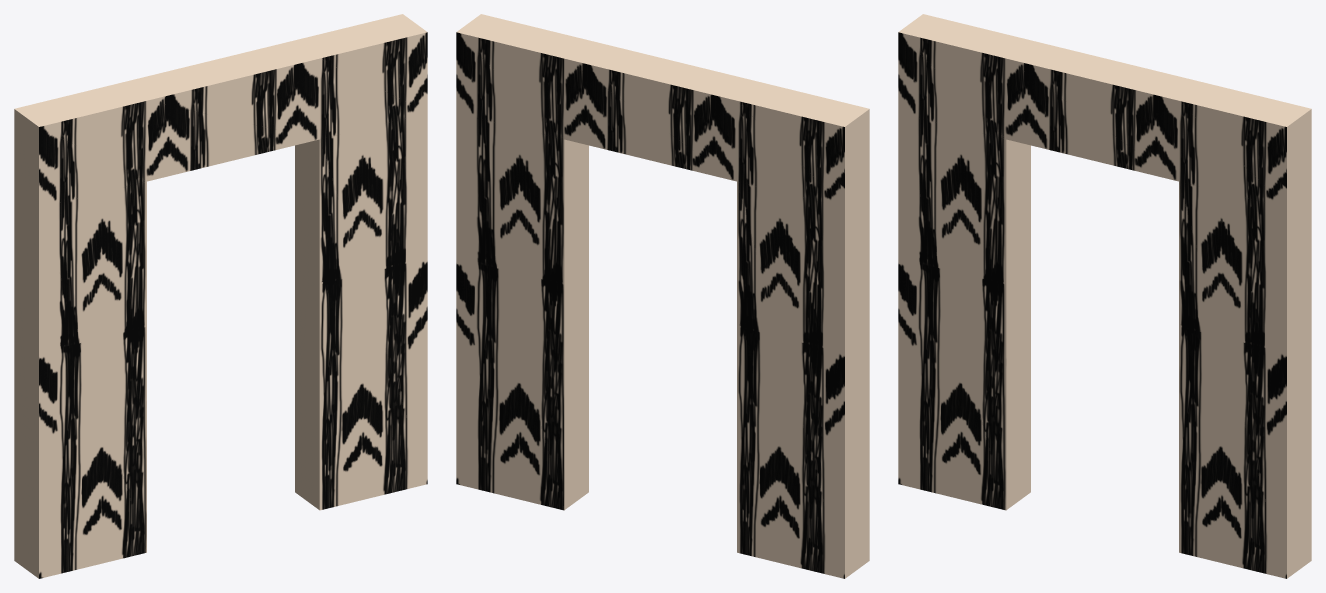
Rendered from puertarregladauwu.fbx.
3 views of the same model, side by side, from view 1: azimuth 30°, elevation 25°; view 2: azimuth 150°, elevation 25°; view 3: azimuth 330°, elevation 25° (orthographic).
Parts seen in each view (by area): view 1: paredx.001; view 2: paredx.001; view 3: paredx.001.
Boxes of the visible parts, bbox=[...] form: paredx.001: bbox=[14, 14, 427, 578]; paredx.001: bbox=[456, 14, 869, 578]; paredx.001: bbox=[898, 14, 1311, 578].
Size of the model in its own units: 270 by 300 by 30.04.
